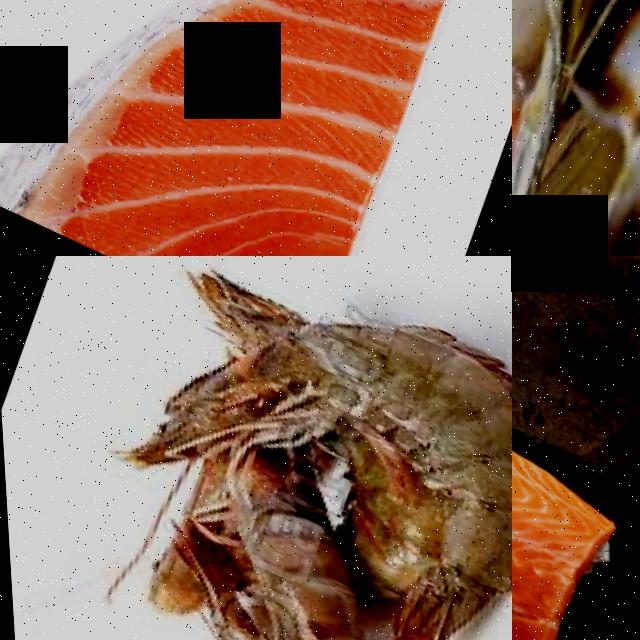salmon: (0, 0, 512, 256), (512, 416, 631, 640)
shrimp: (268, 278, 512, 513), (354, 366, 512, 640), (178, 499, 404, 640)
